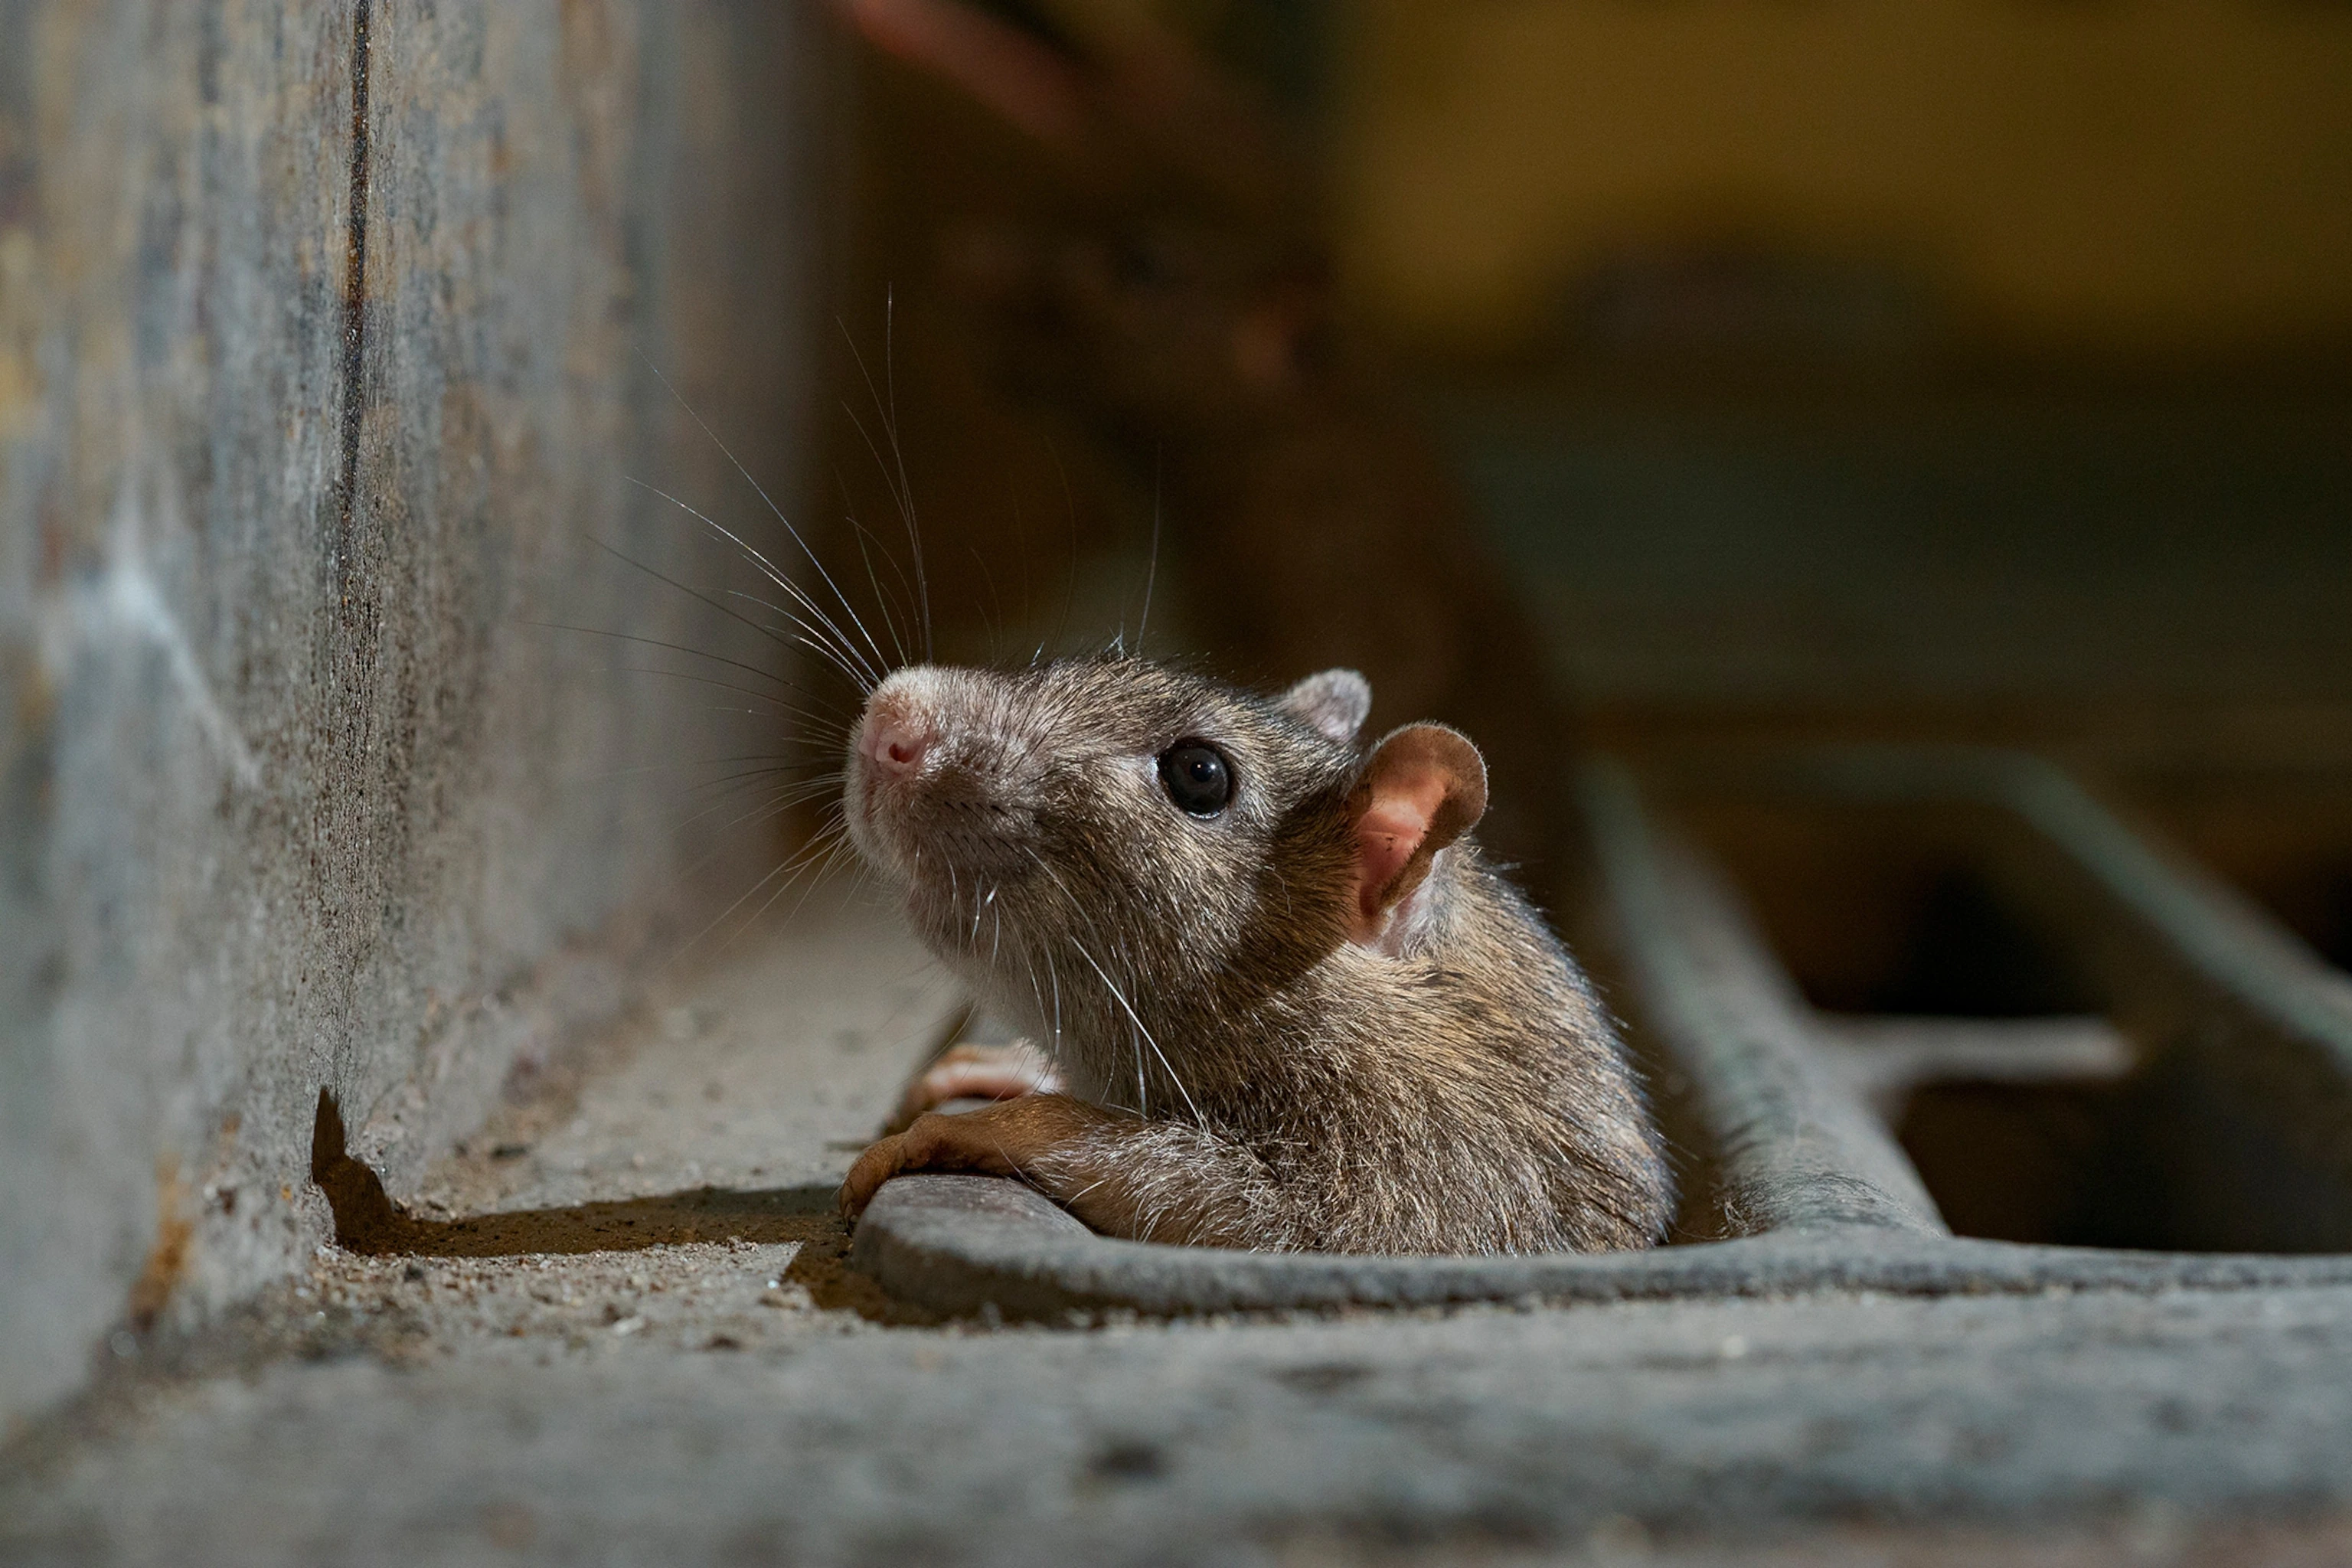Rat: (801, 609, 1727, 1232)
